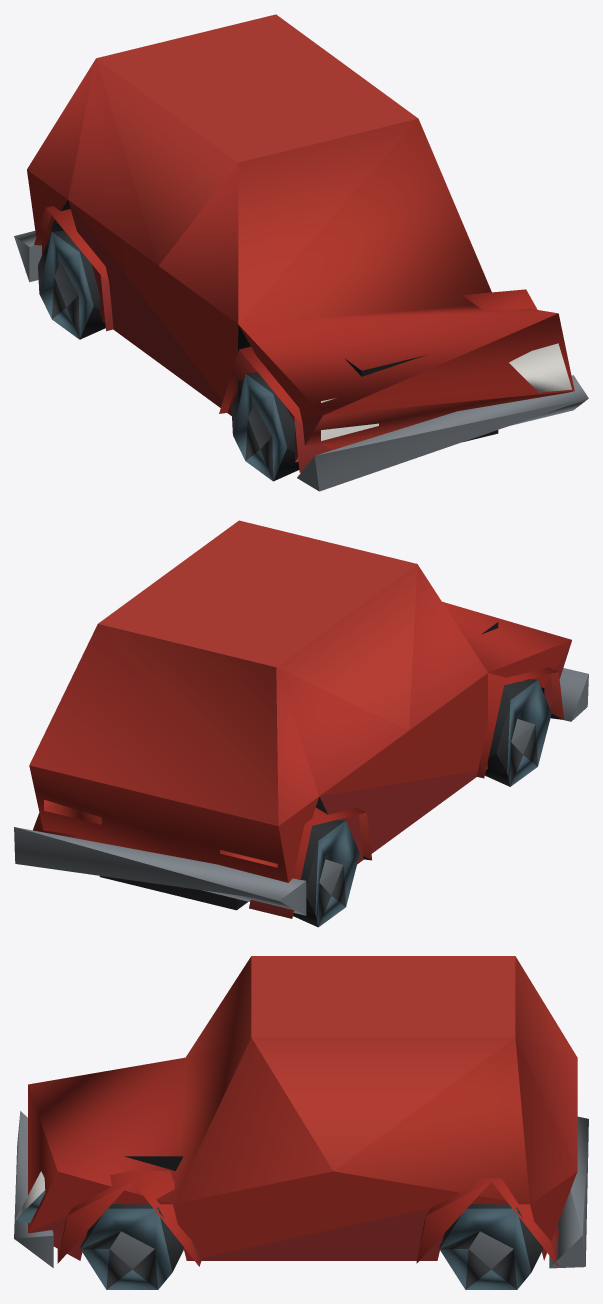
Rendered from hatchback-ambient.high.477b8ee5.glb.
3 views of the same model, one above another, from view 1: azimuth 30°, elevation 25°; view 2: azimuth 150°, elevation 25°; view 3: azimuth 270°, elevation 25° (orthographic). The views are drawn at different scales.
Visible parts, largest first — view 1: hatchback-ambient; view 2: hatchback-ambient; view 3: hatchback-ambient.
Boxes of the visible parts, x1=… form: hatchback-ambient: x1=14, y1=14, x2=588, y2=491; hatchback-ambient: x1=14, y1=520, x2=588, y2=927; hatchback-ambient: x1=14, y1=956, x2=588, y2=1289.
Bounding box in the file's own units: 2.18 × 1.93 × 4.2.
